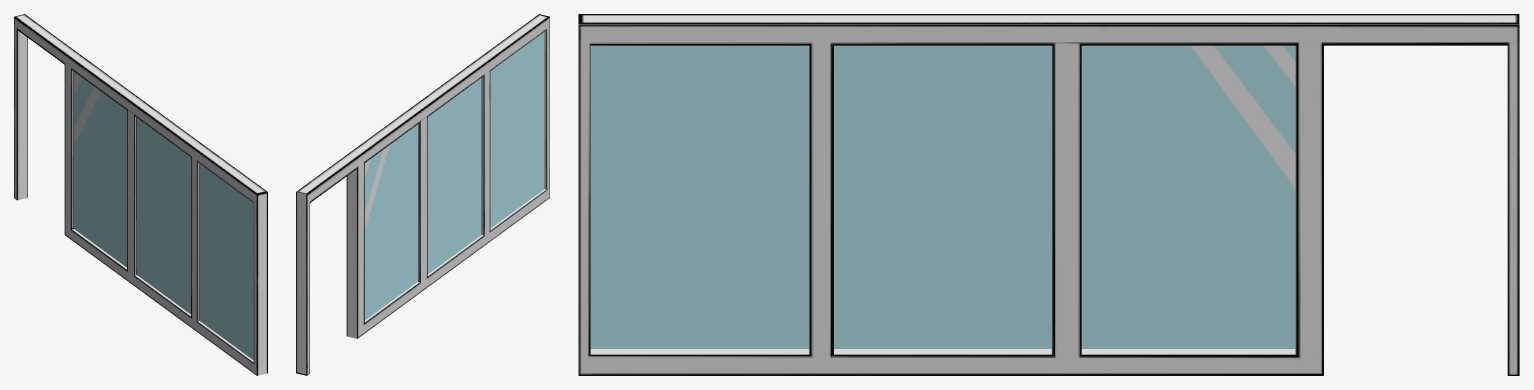
The model's file is entrance.glb.
3 views of the same model, side by side, from view 1: azimuth 30°, elevation 25°; view 2: azimuth 150°, elevation 25°; view 3: azimuth 270°, elevation 25° (orthographic). The views are drawn at different scales.
Visible parts, largest first — view 1: Vetrata, Entrance; view 2: Vetrata, Entrance; view 3: Vetrata, Entrance.
Part boxes in pixels (x1,y1,x2,y2): Vetrata: (74, 72, 253, 359); Entrance: (14, 14, 267, 375); Vetrata: (364, 32, 544, 320); Entrance: (296, 14, 549, 375); Vetrata: (590, 45, 1295, 348); Entrance: (578, 14, 1519, 375).
Size of the model in its own units: 0.2188 by 3.49 by 8.46.
2 materials, 2 textured.
